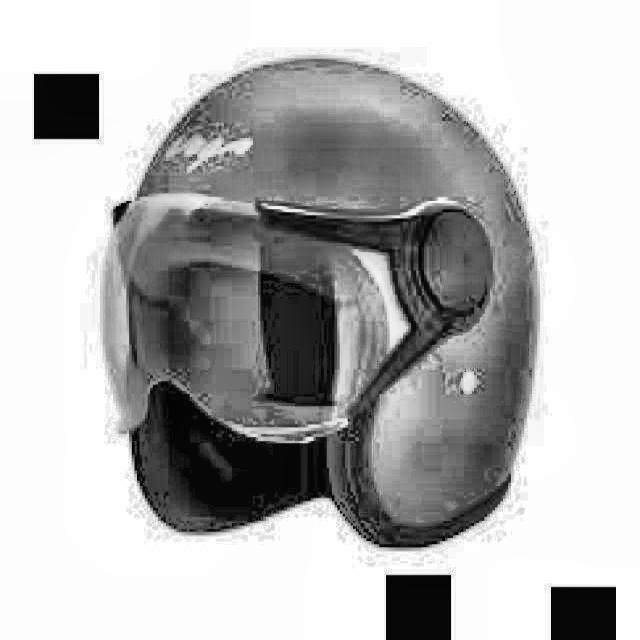Helmet: (100, 49, 528, 554)
